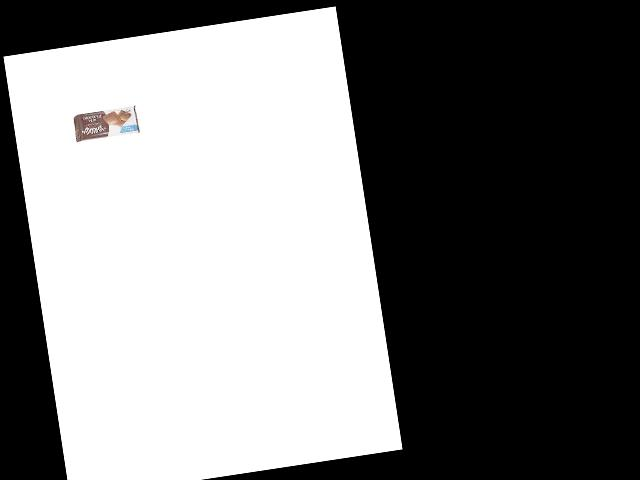chocolate: (73, 104, 140, 143)
